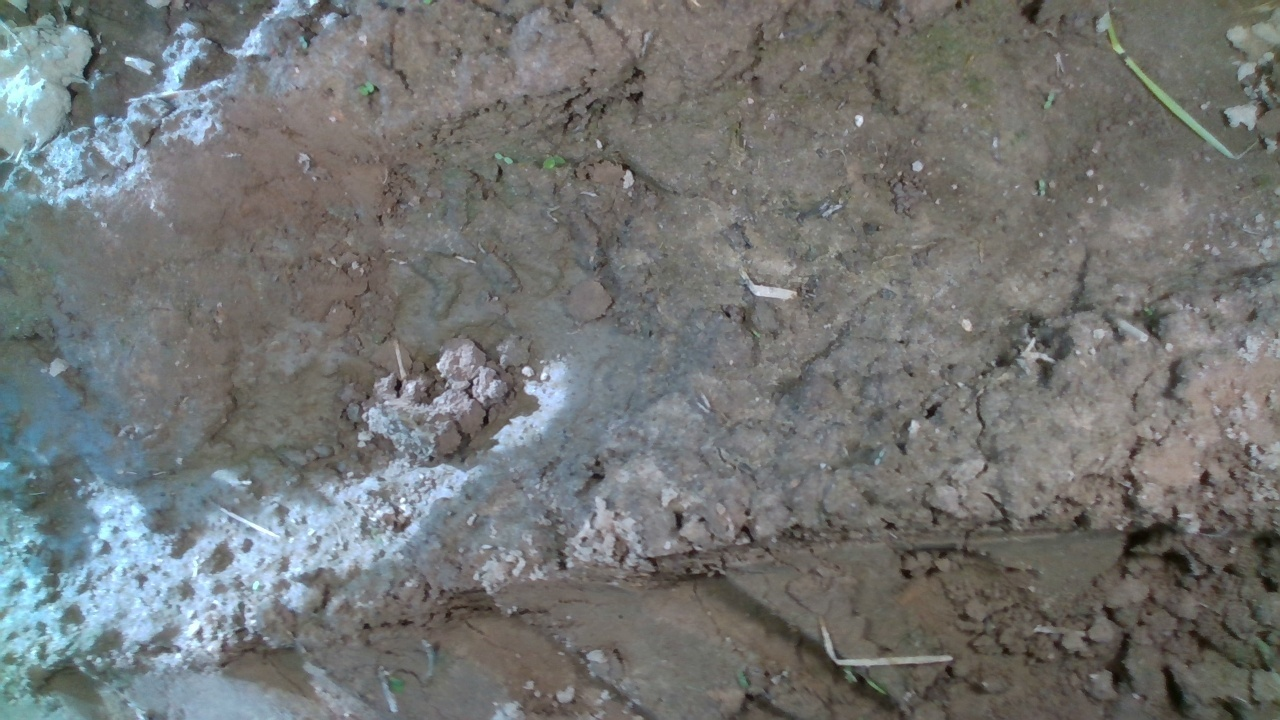weed: (353, 78, 375, 98), (1041, 90, 1055, 110), (493, 151, 514, 164), (297, 34, 309, 53), (1036, 177, 1045, 197)
